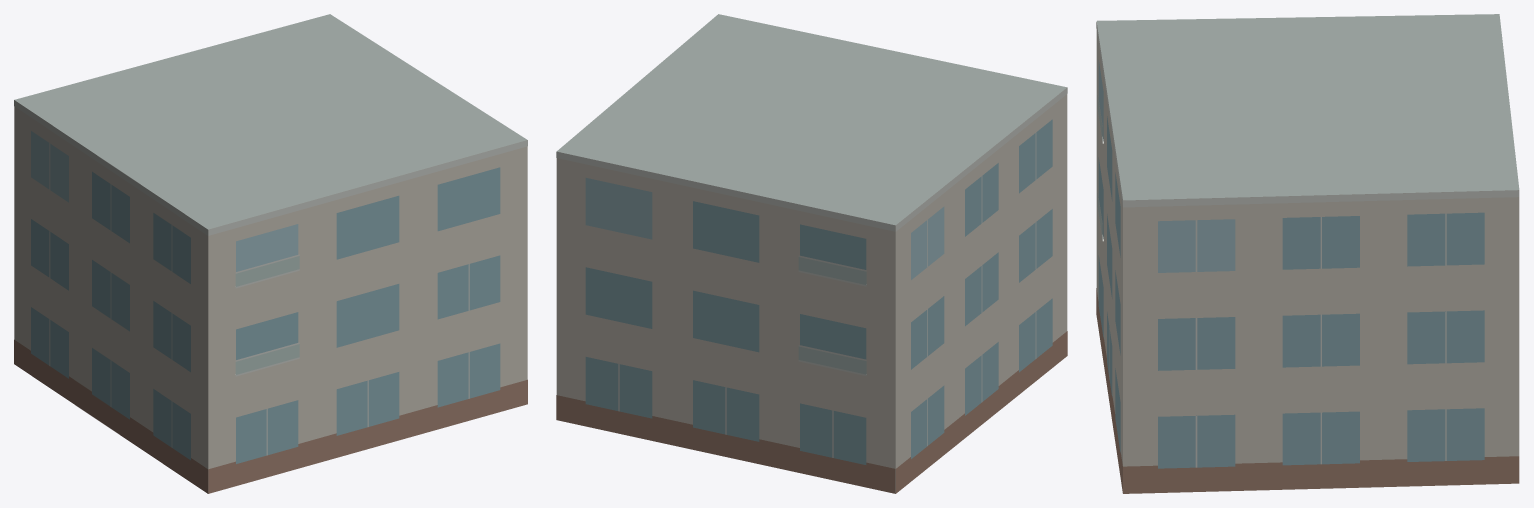
Rendered from survey-upis-33011683.glb.
The picture shows the model from 3 angles, left to right: view 1: azimuth 30°, elevation 25°; view 2: azimuth 150°, elevation 25°; view 3: azimuth 270°, elevation 25°; orthographic projection. The views are drawn at different scales.
Visible parts, largest first — view 1: survey-upis-33011683.tmp; view 2: survey-upis-33011683.tmp; view 3: survey-upis-33011683.tmp.
Boxes of the visible parts, bbox=[...] form: survey-upis-33011683.tmp: bbox=[14, 14, 527, 493]; survey-upis-33011683.tmp: bbox=[556, 14, 1067, 493]; survey-upis-33011683.tmp: bbox=[1096, 14, 1519, 493].
Bounding box in the file's own units: 13.91 × 10.2 × 13.34.
